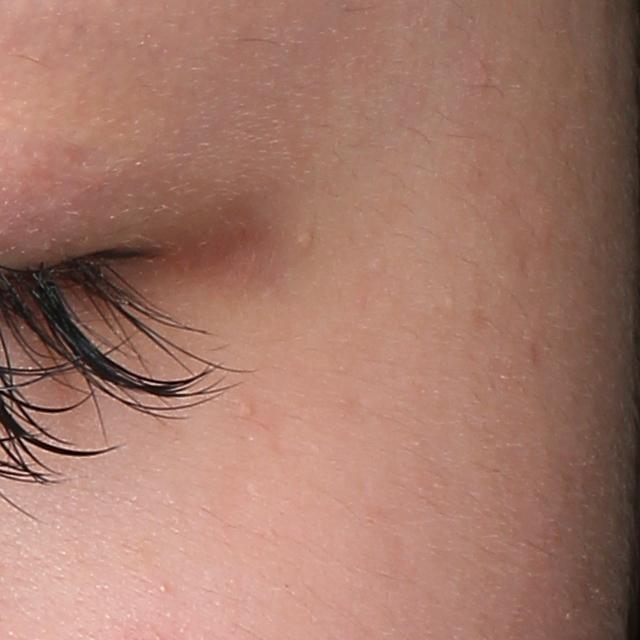comedo: (295, 226, 317, 246), (238, 401, 254, 419)
